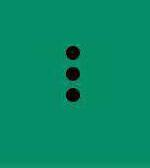ImgButton: (1, 1, 149, 167)
